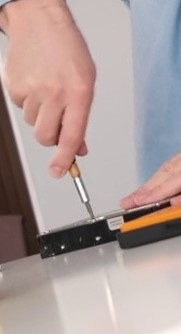screwdriver: (21, 72, 96, 220)
